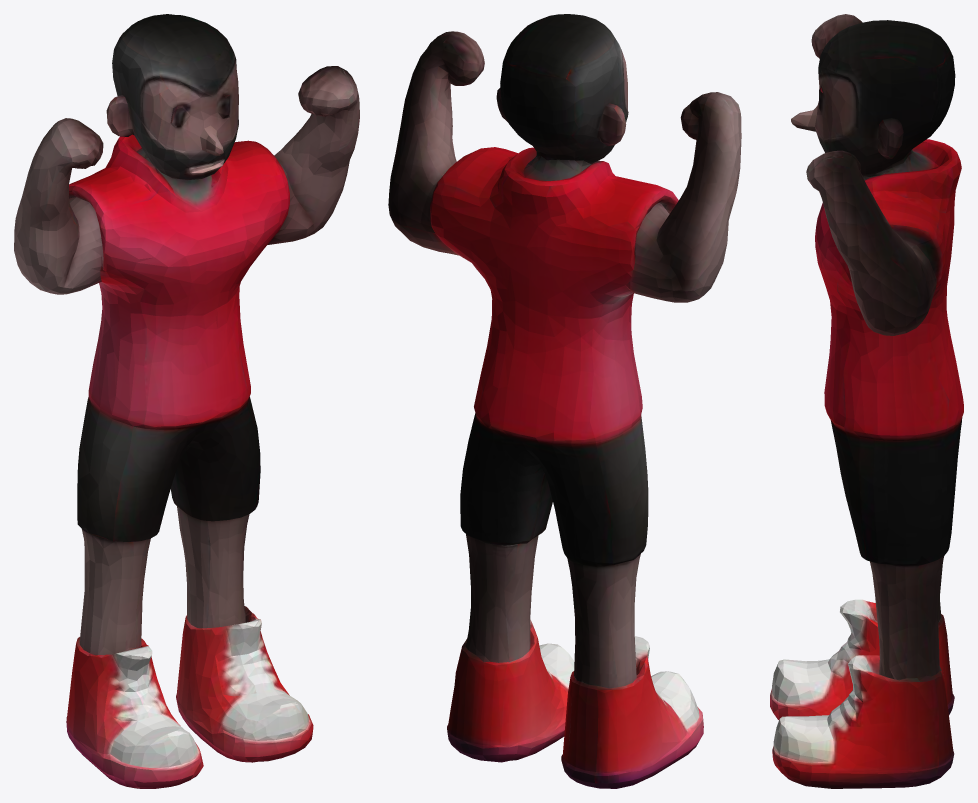
The model's file is Exercise copy.glb.
3 renders of one model, left to right at view 1: azimuth 30°, elevation 25°; view 2: azimuth 150°, elevation 25°; view 3: azimuth 270°, elevation 25°, orthographic. The views are drawn at different scales.
Visible parts, largest first — view 1: Exercise; view 2: Exercise; view 3: Exercise.
Boxes of the visible parts, left/top/right/bottom form: Exercise: left=14, top=14, right=359, bottom=788; Exercise: left=388, top=14, right=741, bottom=788; Exercise: left=770, top=14, right=963, bottom=788.
Size of the model in its own units: 0.4741 by 1 by 0.2444.
Materials: 1 (1 with a texture image).
